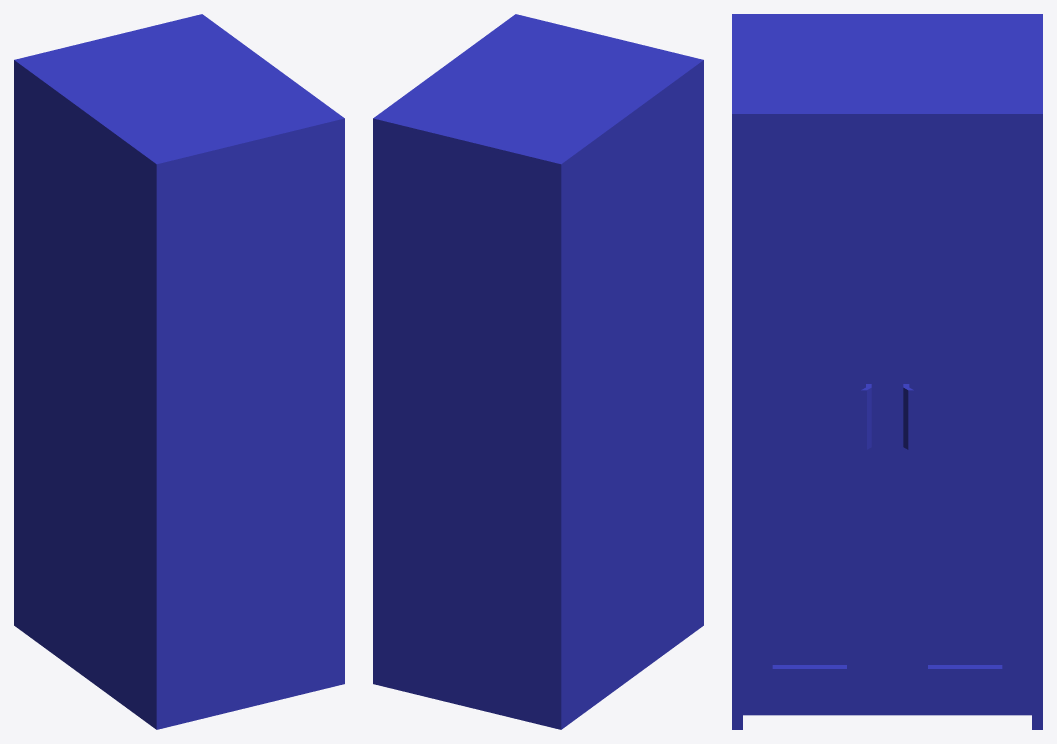
The model's file is Brimnes.fbx.
3 renders of one model, left to right at view 1: azimuth 30°, elevation 25°; view 2: azimuth 150°, elevation 25°; view 3: azimuth 270°, elevation 25°, orthographic. The views are drawn at different scales.
Parts seen in each view (by area): view 1: Brimnes; view 2: Brimnes; view 3: Brimnes.
Part boxes in pixels (x1=…): Brimnes: x1=14, y1=14, x2=344, y2=729; Brimnes: x1=373, y1=14, x2=703, y2=729; Brimnes: x1=732, y1=14, x2=1042, y2=729.
Bounding box in the file's own units: 189 × 511 × 234.
